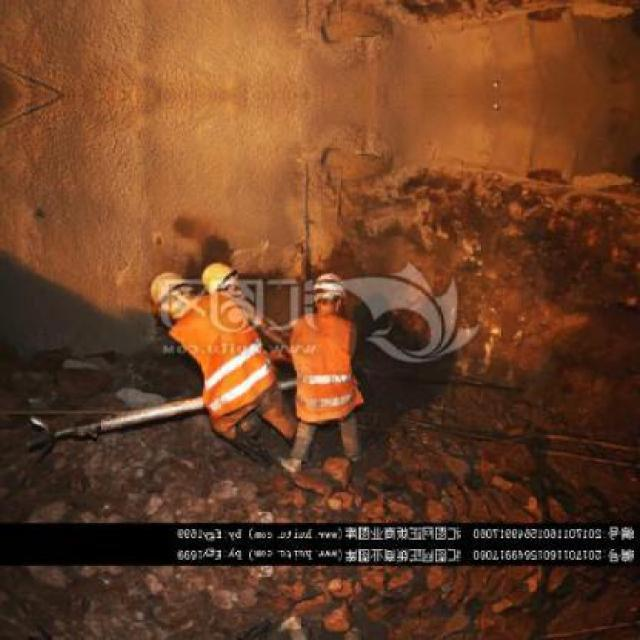reflective_jacket: (170, 294, 277, 425), (286, 311, 363, 428)
safety_helmet: (139, 263, 195, 316), (192, 256, 244, 299), (301, 267, 350, 304)
